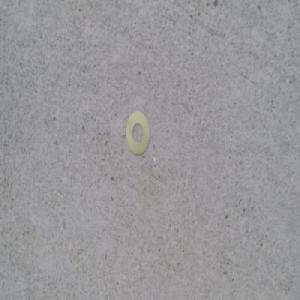Washer: (124, 109, 149, 157)
